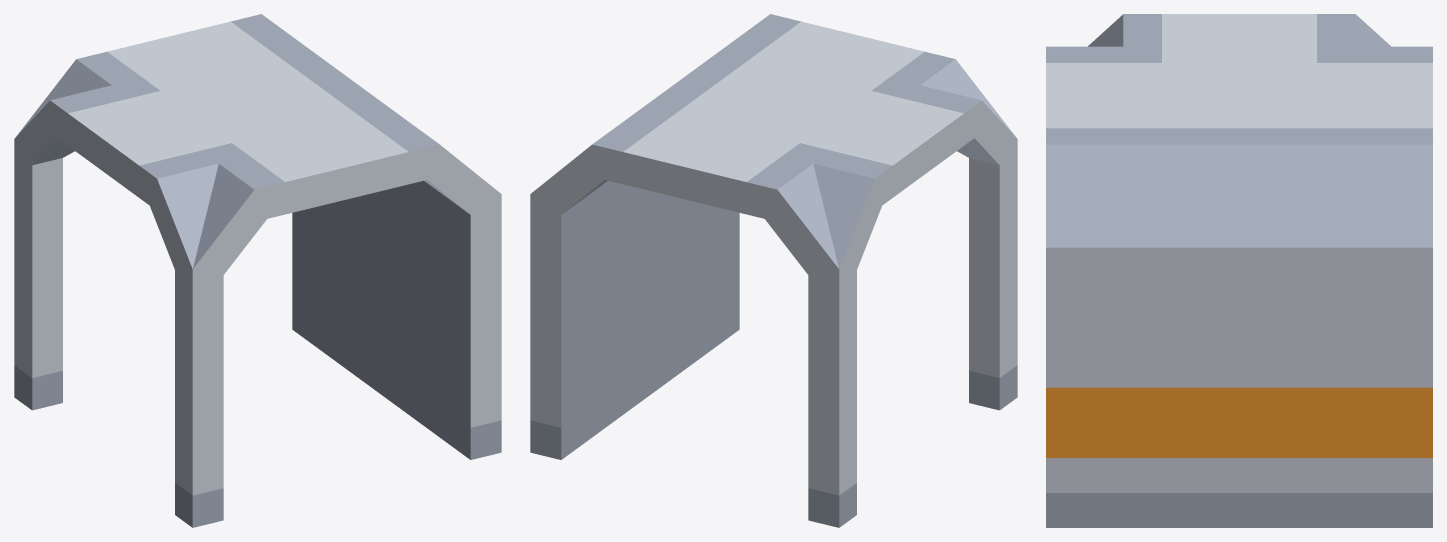
Rendered from corridor_split.glb.
3 renders of one model, left to right at view 1: azimuth 30°, elevation 25°; view 2: azimuth 150°, elevation 25°; view 3: azimuth 270°, elevation 25°, orthographic. The views are drawn at different scales.
Parts seen in each view (by area): view 1: corridor_split; view 2: corridor_split; view 3: corridor_split.
Part boxes in pixels (x1=…): corridor_split: x1=14, y1=14, x2=501, y2=527; corridor_split: x1=530, y1=14, x2=1017, y2=527; corridor_split: x1=1046, y1=14, x2=1432, y2=527.
Size of the model in its own units: 1 by 1 by 1.
